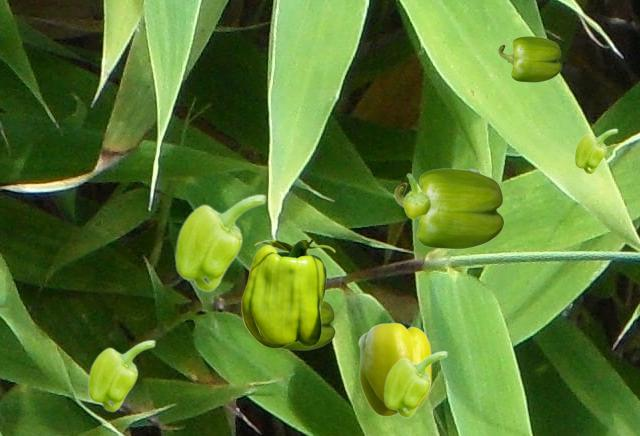bell_pepper: (241, 240, 334, 347), (174, 193, 266, 291), (394, 168, 503, 248), (358, 322, 430, 415), (87, 339, 155, 411), (383, 350, 447, 417), (498, 36, 560, 81), (280, 300, 334, 349), (574, 128, 617, 173), (403, 173, 430, 218)
